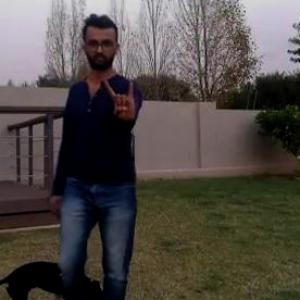takeoff-hand: (100, 73, 141, 124)
